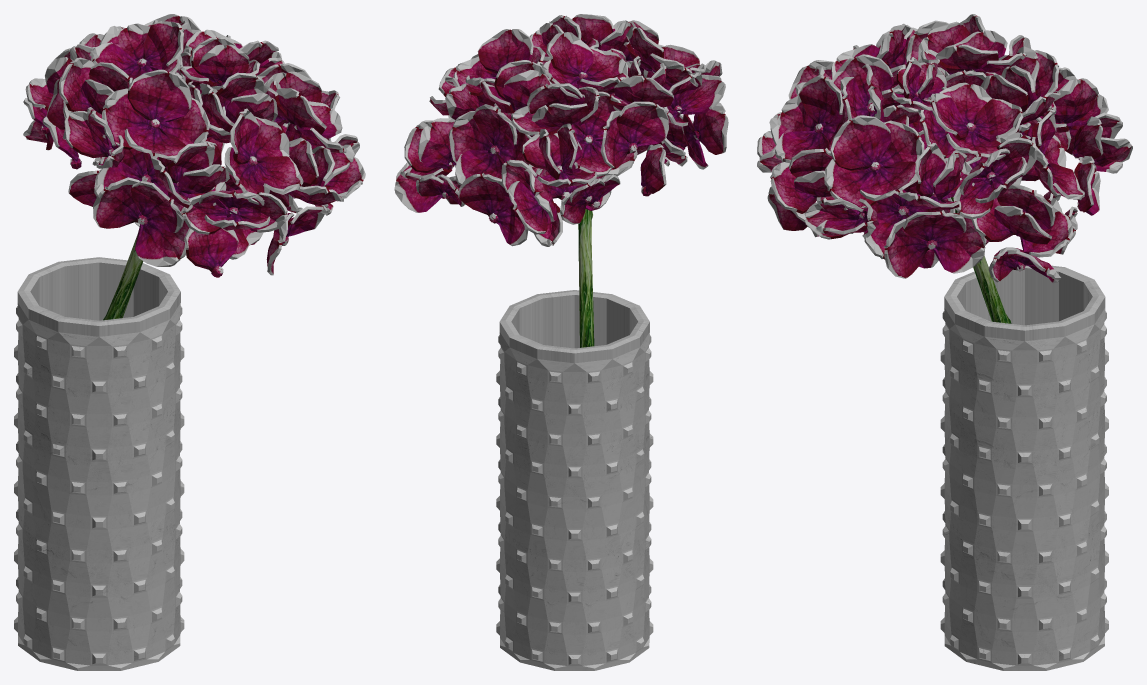
Rendered from stylish-cylindrical-pot.obj.
3 views of the same model, side by side, from view 1: azimuth 30°, elevation 25°; view 2: azimuth 150°, elevation 25°; view 3: azimuth 270°, elevation 25° (orthographic). The views are drawn at different scales.
Visible parts, largest first — view 1: Vase_38; view 2: Vase_38; view 3: Vase_38.
Part boxes in pixels (x1,y1,x2,y2): Vase_38: [14, 14, 365, 670]; Vase_38: [394, 14, 728, 670]; Vase_38: [757, 14, 1132, 670].
Size of the model in its own units: 10.22 by 22.18 by 12.28.
3 materials, 3 textured.
